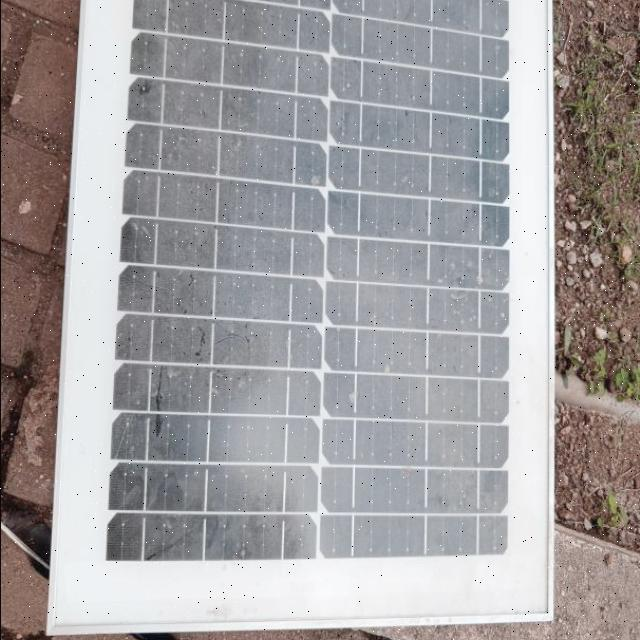Anomaly Solar Panel: (93, 6, 529, 600)
Surface Contaminant: (93, 5, 529, 600)
